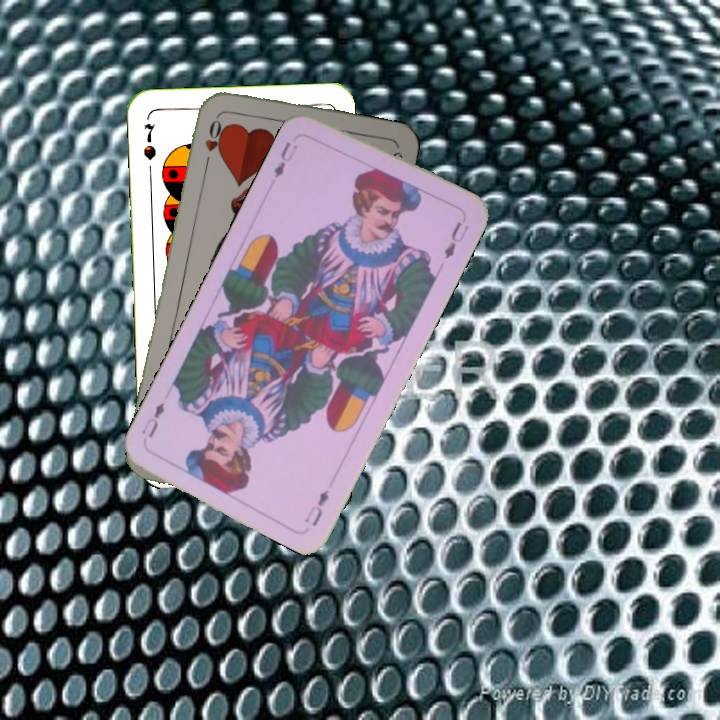EU: (300, 485, 332, 529), (270, 137, 301, 181)
HO: (200, 112, 224, 170)
S7: (139, 119, 159, 163)
